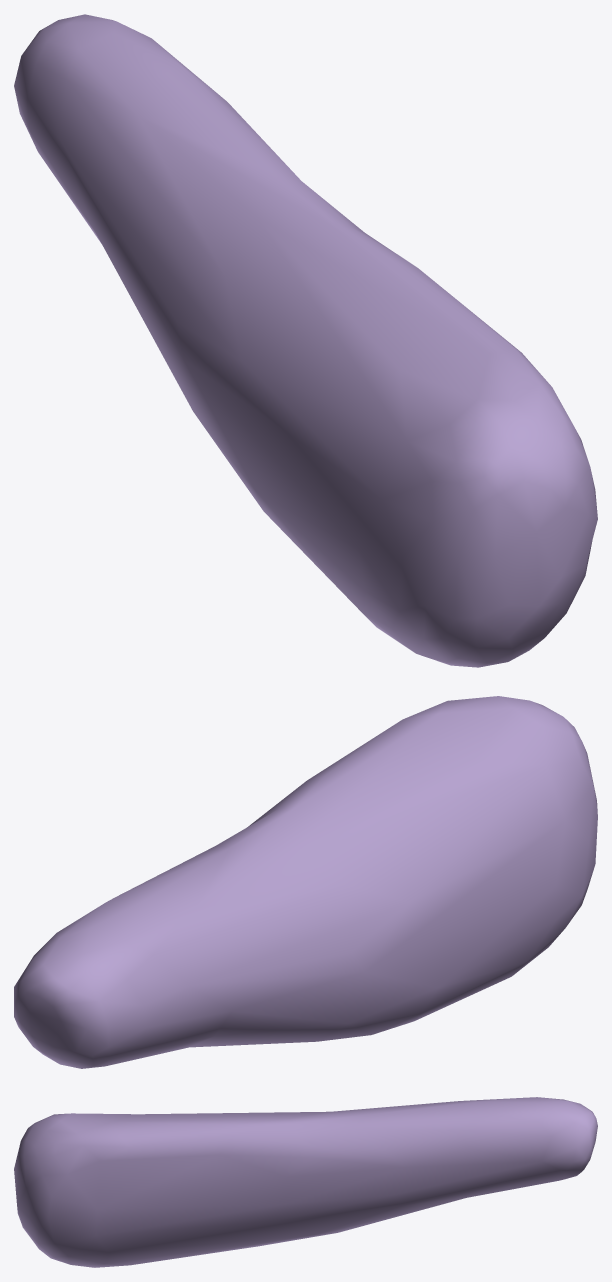
3 renders of one model, top to bottom at view 1: azimuth 30°, elevation 25°; view 2: azimuth 150°, elevation 25°; view 3: azimuth 270°, elevation 25°, orthographic. The views are drawn at different scales.
Parts seen in each view (by area): view 1: 左侧泪囊; view 2: 左侧泪囊; view 3: 左侧泪囊.
Part boxes in pixels (x1,y1,x2,y2): 左侧泪囊: [14, 14, 597, 667]; 左侧泪囊: [14, 696, 597, 1068]; 左侧泪囊: [14, 1097, 597, 1267].
Size of the model in its own units: 0.0059 by 0.00899 by 0.0271.
